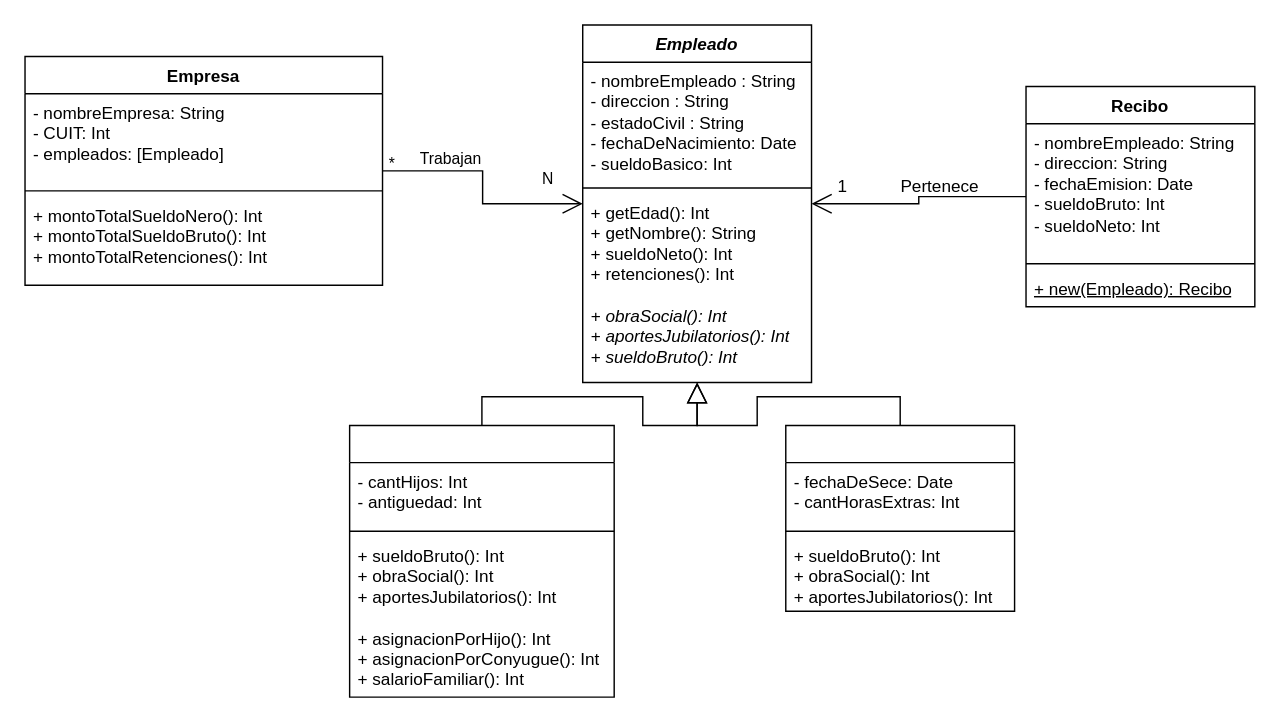
The diagram is 1280 pixels wide and 726 high, and some of its shapes have lost their labels. Each missing label, with the box of its shape:
Permanente: (348, 424, 614, 697)
Temporario: (784, 424, 1015, 611)
